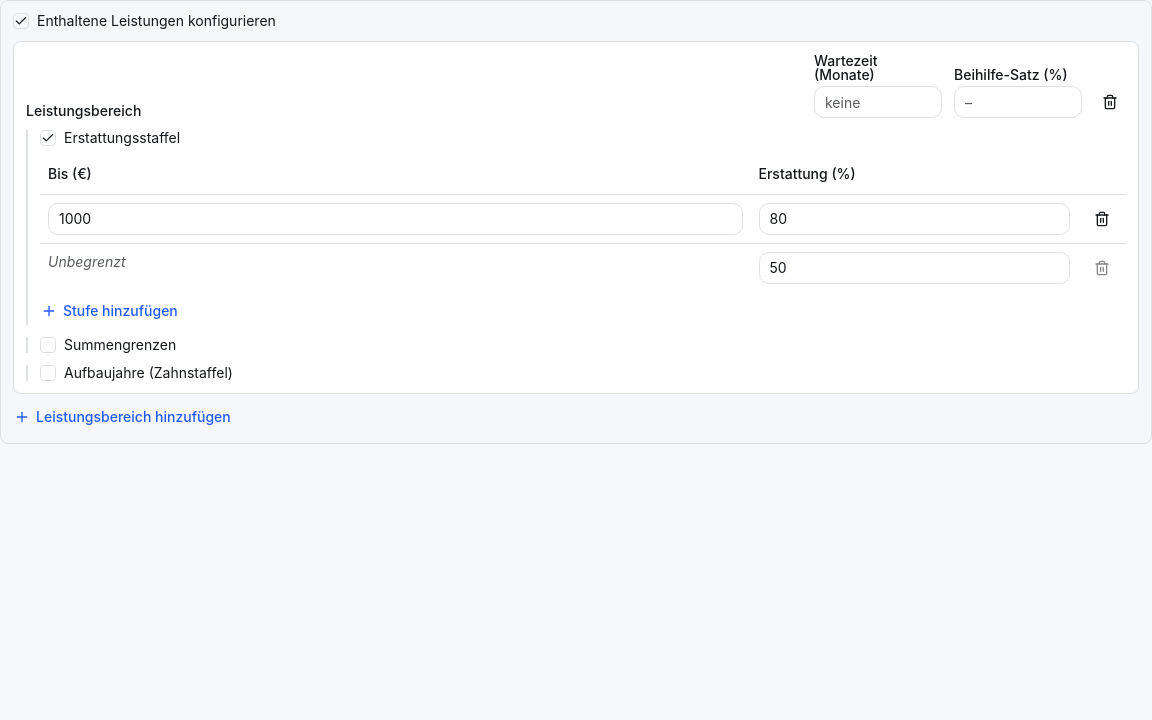
IncludedBenefitsEditor › flags a non-ascending Erstattungsstaffel on the offending row
The width and height of the screenshot is (1152, 720).
// Insert a second finite tier, then push it below its predecessor.
Click the button "Stufe hinzufügen".
click(109, 310)  # box [40, 300, 179, 322]
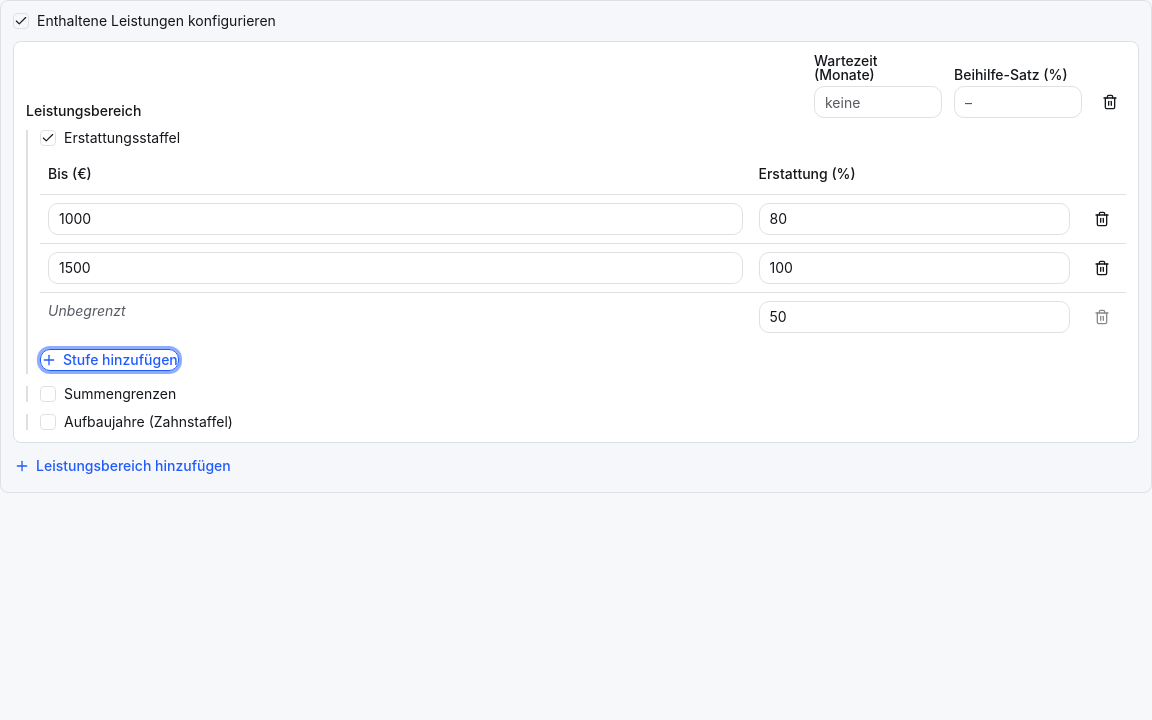
expect the number of number fields labelled "Bis (€)" is 2: met
Clear the 2nd number field labelled "Bis (€)" at (395,268), box [48, 252, 742, 284]
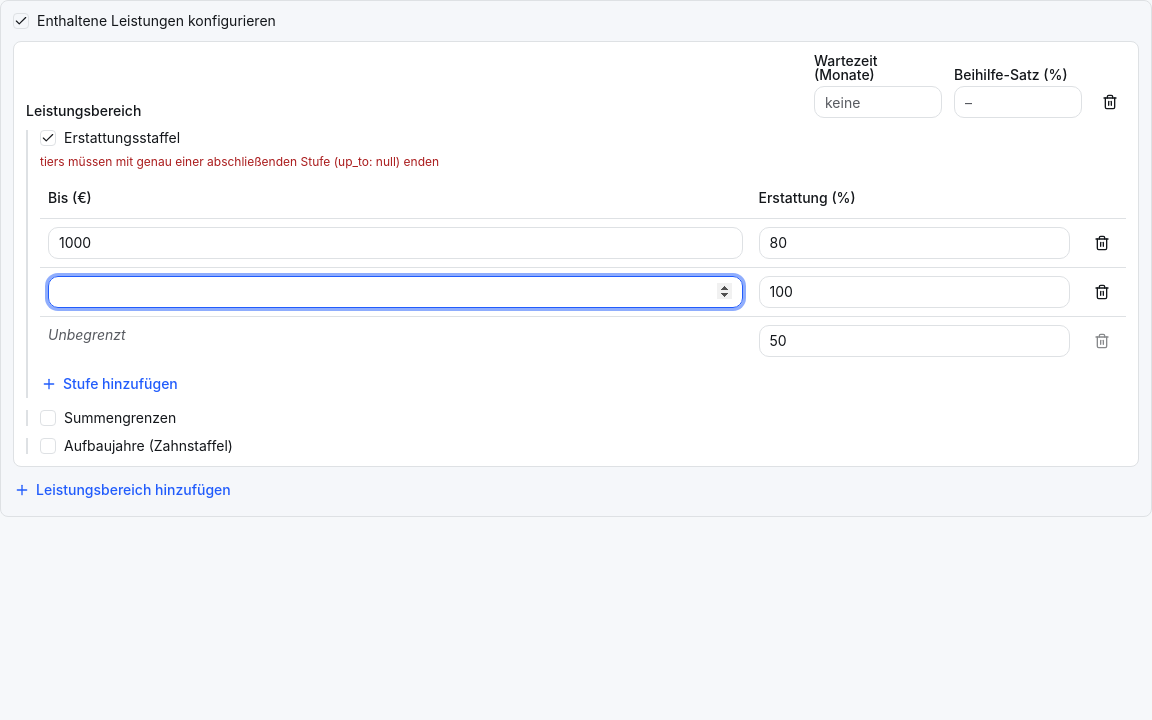
Type "500" into the 2nd number field labelled "Bis (€)".
click(395, 292); type("500")  # box [48, 276, 742, 308]
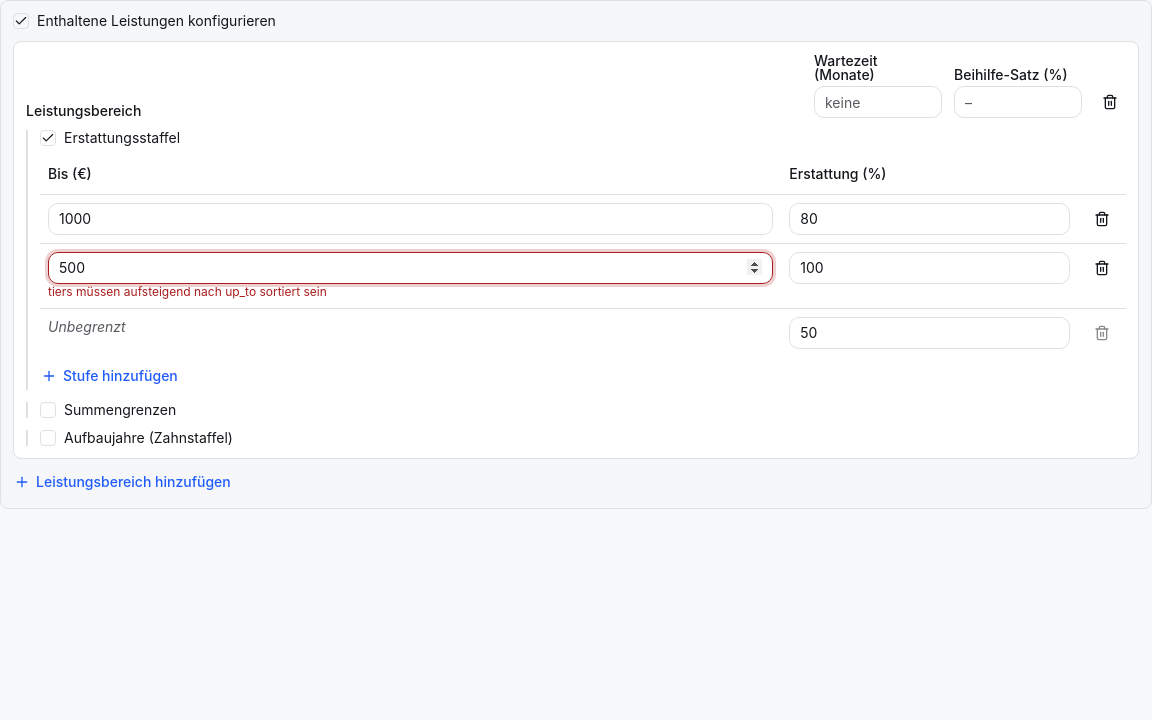
expect the text "tiers müssen aufsteigend nach up_to sortiert sein" is shown: met, box [48, 284, 327, 298]
